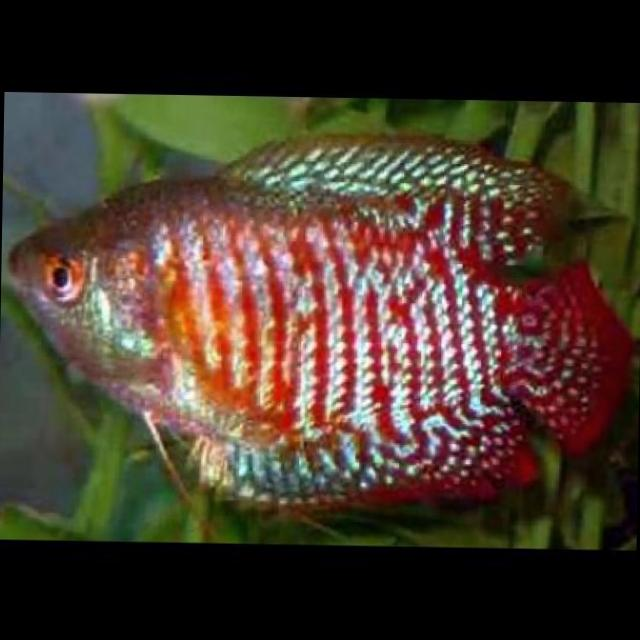Gourami: (4, 118, 640, 518)
